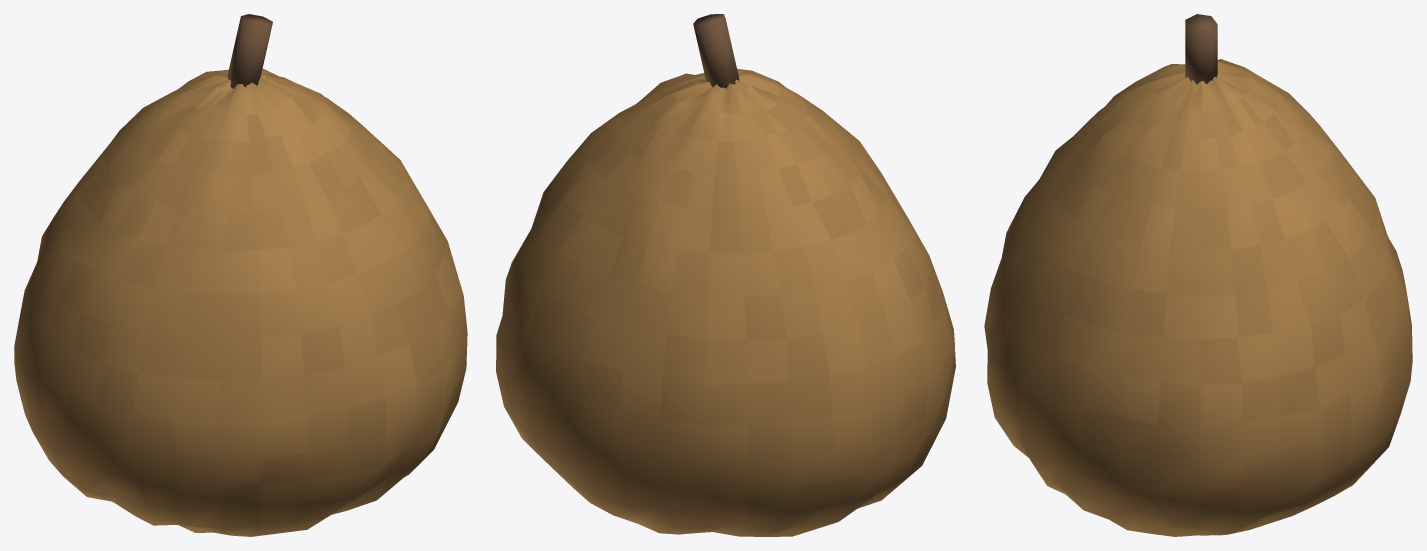
Rendered from Onion.glb.
3 views of the same model, side by side, from view 1: azimuth 30°, elevation 25°; view 2: azimuth 150°, elevation 25°; view 3: azimuth 270°, elevation 25° (orthographic).
Parts seen in each view (by area): view 1: Onion; view 2: Onion; view 3: Onion.
Part boxes in pixels (x1,y1,x2,y2): Onion: [14, 14, 467, 536]; Onion: [496, 14, 955, 536]; Onion: [984, 14, 1412, 536].
Size of what is drawn, in the model's own units: 0.0777 by 0.0896 by 0.0701.
